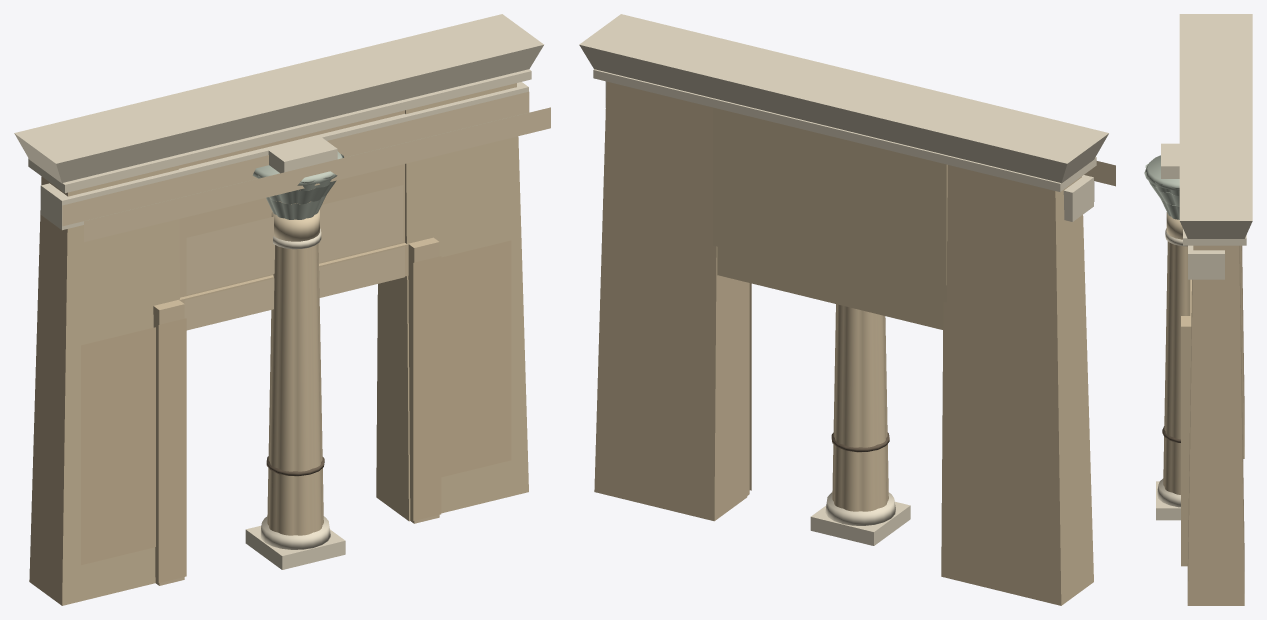
File: egypt.glb
The picture shows the model from 3 angles, left to right: view 1: azimuth 30°, elevation 25°; view 2: azimuth 150°, elevation 25°; view 3: azimuth 270°, elevation 25°; orthographic projection. The views are drawn at different scales.
Parts seen in each view (by area): view 1: Trim_cavetto, Slab_towerL, Slab_towerR, DeityL_fig, DeityR_fig, Slab_shaft, Band_wingedsun, Band_beamB, Band_beamF, Jamb_band, Jamb_band.001, Trim_roll (+11 smaller); view 2: Slab_towerL, Slab_towerR, Slab_header, Trim_cavetto, Slab_shaft, Slab_lintel, Trim_roll, Trim_plinth, Trim_basering, Trim_beambody, Slab_jamb.001; view 3: Slab_towerR, Trim_cavetto, Slab_shaft, Slab_jamb.001, Trim_beambody, Trim_abacus, Capital_lip, Slab_towerL, Trim_roll, Trim_plinth, Trim_basering, Band_ring (+3 smaller).
Boxes of the visible parts, <box> form: Trim_cavetto: <box>14,14,543,183</box>; Slab_towerL: <box>29,165,179,605</box>; Slab_towerR: <box>376,83,528,521</box>; DeityL_fig: <box>81,327,155,565</box>; DeityR_fig: <box>441,240,511,477</box>; Slab_shaft: <box>267,243,323,535</box>; Band_wingedsun: <box>186,185,403,294</box>; Band_beamB: <box>84,107,550,241</box>; Band_beamF: <box>62,91,529,226</box>; Jamb_band: <box>158,318,186,582</box>; Jamb_band.001: <box>413,256,441,520</box>; Trim_roll: <box>28,69,531,193</box>; Slab_towerL: <box>941,165,1093,605</box>; Slab_towerR: <box>594,81,747,521</box>; Slab_header: <box>713,107,947,302</box>; Trim_cavetto: <box>579,14,1108,183</box>; Slab_shaft: <box>832,304,888,511</box>; Slab_lintel: <box>717,246,943,329</box>; Trim_roll: <box>593,69,1096,191</box>; Trim_plinth: <box>810,501,910,545</box>; Trim_basering: <box>825,492,895,525</box>; Trim_beambody: <box>605,81,1093,221</box>; Slab_jamb.001: <box>745,282,749,495</box>; Slab_towerR: <box>1187,245,1244,605</box>; Trim_cavetto: <box>1179,14,1252,238</box>; Slab_shaft: <box>1163,241,1190,494</box>; Slab_jamb.001: <box>1181,316,1191,566</box>; Trim_beambody: <box>1188,245,1224,279</box>; Trim_abacus: <box>1161,143,1179,178</box>; Capital_lip: <box>1144,155,1179,190</box>; Slab_towerL: <box>1241,245,1244,458</box>; Trim_roll: <box>1183,229,1246,245</box>; Trim_plinth: <box>1156,481,1180,520</box>; Trim_basering: <box>1157,478,1180,507</box>; Band_ring: <box>1166,212,1182,239</box>.
Size of the model in its own units: 7.32 by 6.42 by 1.62.
